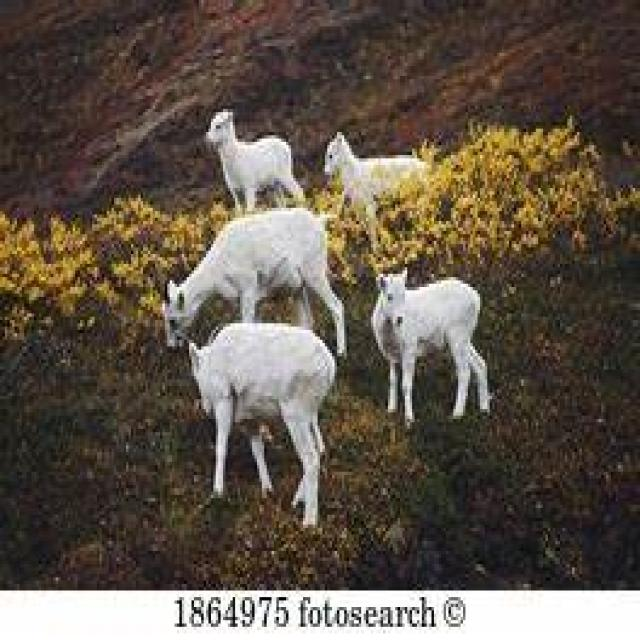animal: (174, 320, 334, 528), (160, 205, 347, 356), (369, 267, 492, 429), (323, 128, 429, 250), (204, 106, 306, 211)
